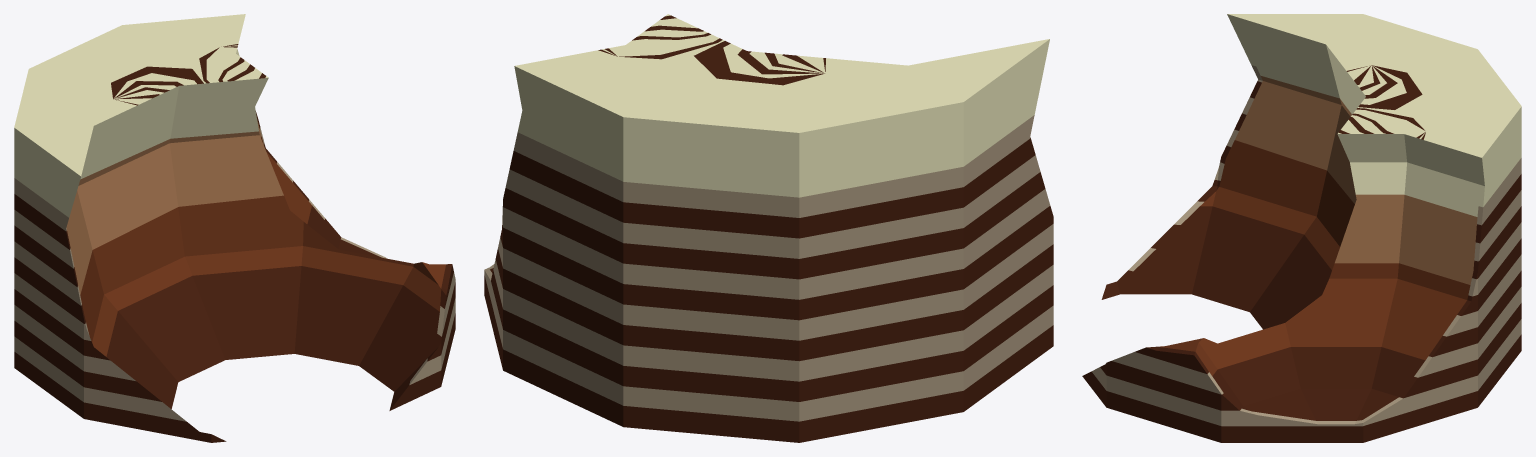
The model's file is TripleChocolateState3.fbx.
3 views of the same model, side by side, from view 1: azimuth 30°, elevation 25°; view 2: azimuth 150°, elevation 25°; view 3: azimuth 270°, elevation 25° (orthographic). The views are drawn at different scales.
Visible parts, largest first — view 1: TripleChocolateState3; view 2: TripleChocolateState3; view 3: TripleChocolateState3.
Part boxes in pixels (bbox=[...]): TripleChocolateState3: bbox=[14, 14, 455, 442]; TripleChocolateState3: bbox=[484, 14, 1053, 442]; TripleChocolateState3: bbox=[1082, 14, 1521, 442].
Size of the model in its own units: 76.08 by 47 by 76.6.
